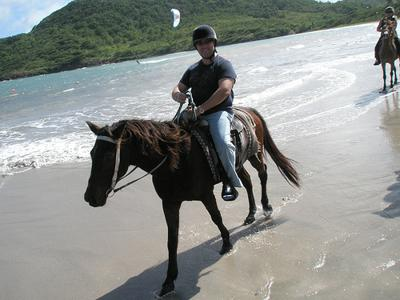person: (171, 25, 246, 193)
